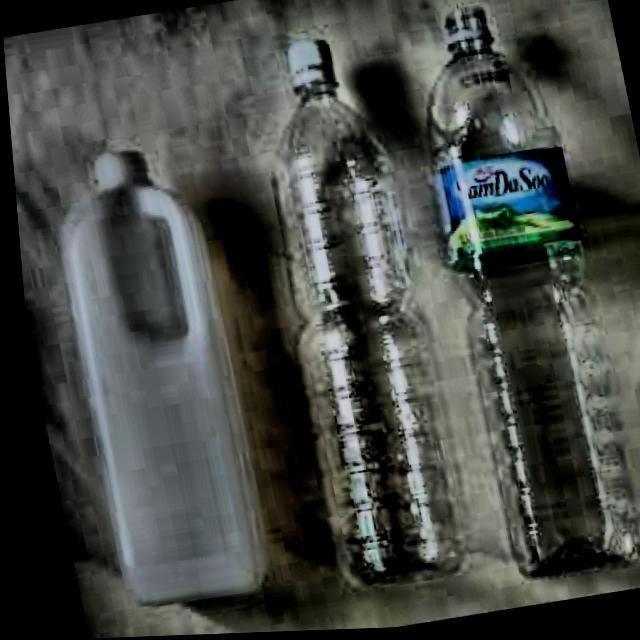Bottles: (226, 23, 485, 626), (379, 0, 640, 593)
